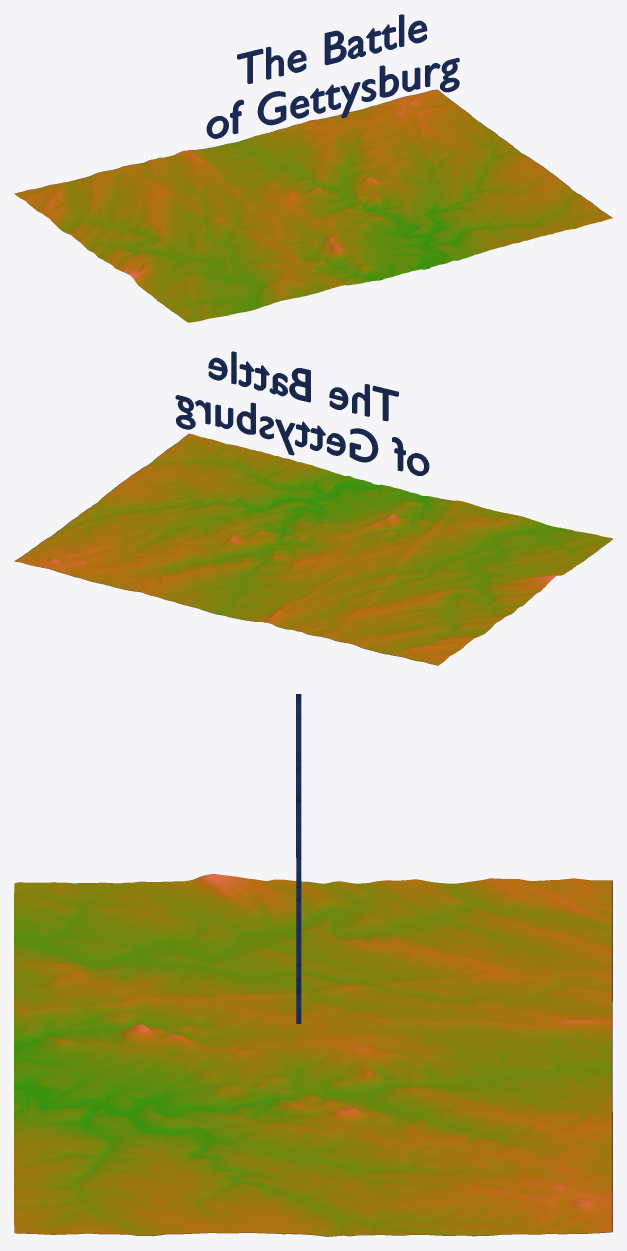
The model's file is Gettysburg_heightmap.glb.
3 renders of one model, top to bottom at view 1: azimuth 30°, elevation 25°; view 2: azimuth 150°, elevation 25°; view 3: azimuth 270°, elevation 25°, orthographic. The views are drawn at different scales.
Parts seen in each view (by area): view 1: heightmap, title; view 2: heightmap, title; view 3: heightmap, title.
Part boxes in pixels (box(x1,y1,x2,y2)): heightmap: box(14, 89, 612, 322); title: box(206, 14, 459, 138); heightmap: box(14, 433, 612, 665); title: box(175, 351, 429, 475); heightmap: box(14, 874, 612, 1236); title: box(296, 694, 301, 1023).
Size of the model in its own units: 8.2 by 3.31 by 5.87.
Materials: 2 (2 with a texture image).
